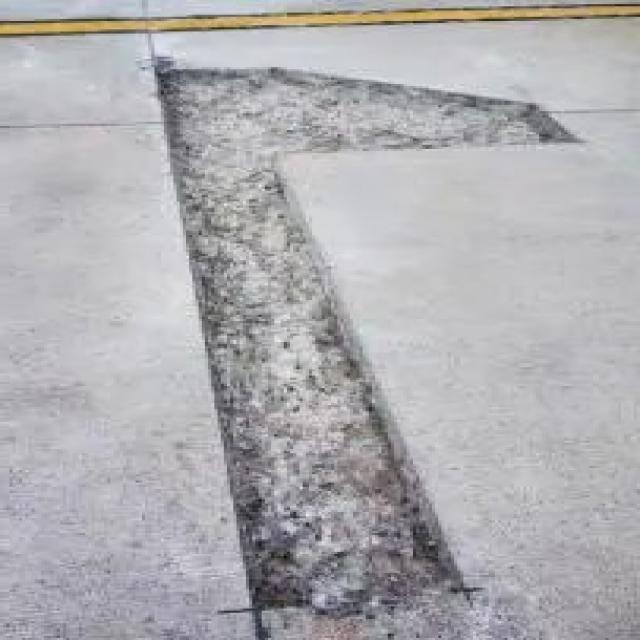pothole: (142, 61, 596, 634)
